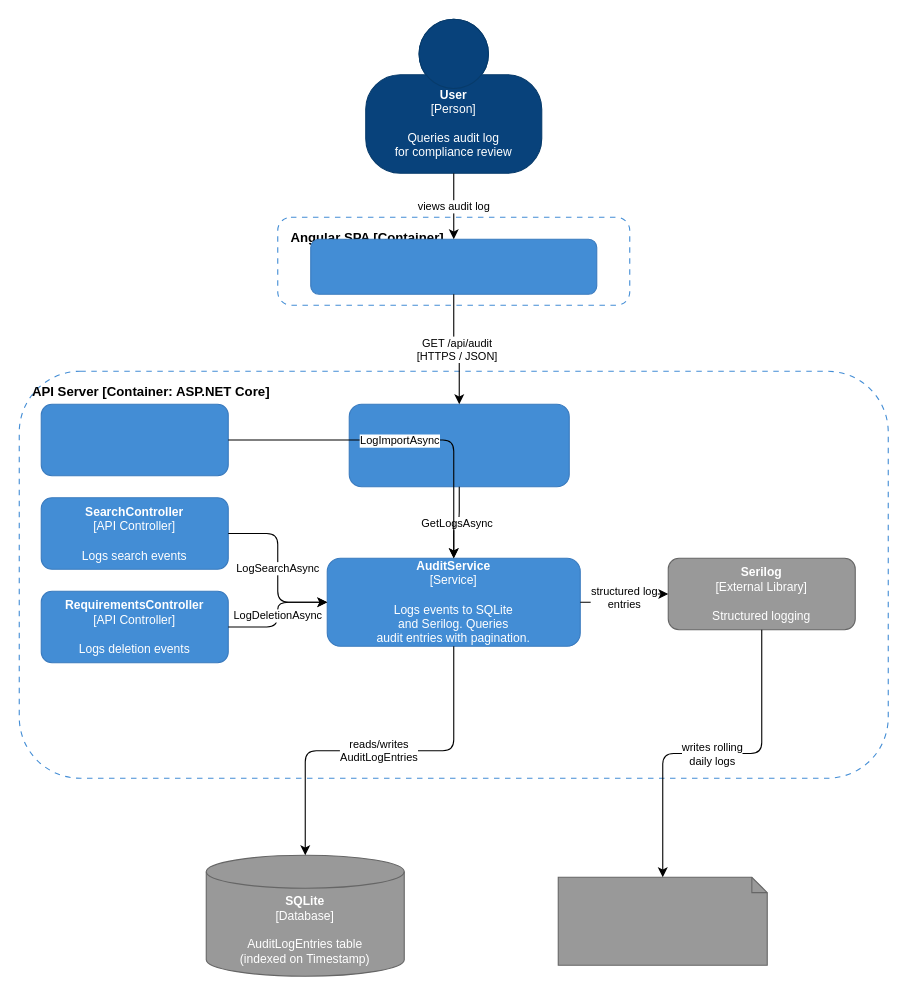
Image size: 908x996. Some labels were removed from this diagram. The centre of each missing label's shape, as x and y in pixels:
AuditController [API Controller] GET /api/audit Query audit log entries: [458,445]
AuditService [Angular Service] API client for audit log: [453,266]
ImportController [API Controller] Logs import events: [134,439]
Log Files [File System] ./logs/traceq-{date}.log Rolling daily files: [662,920]
